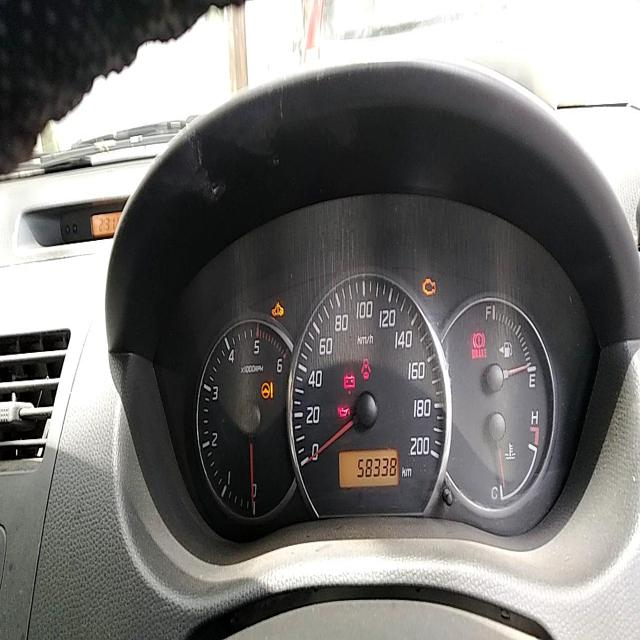odometer: (355, 453, 398, 479)
